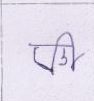i_matra: (61, 31, 81, 71)
